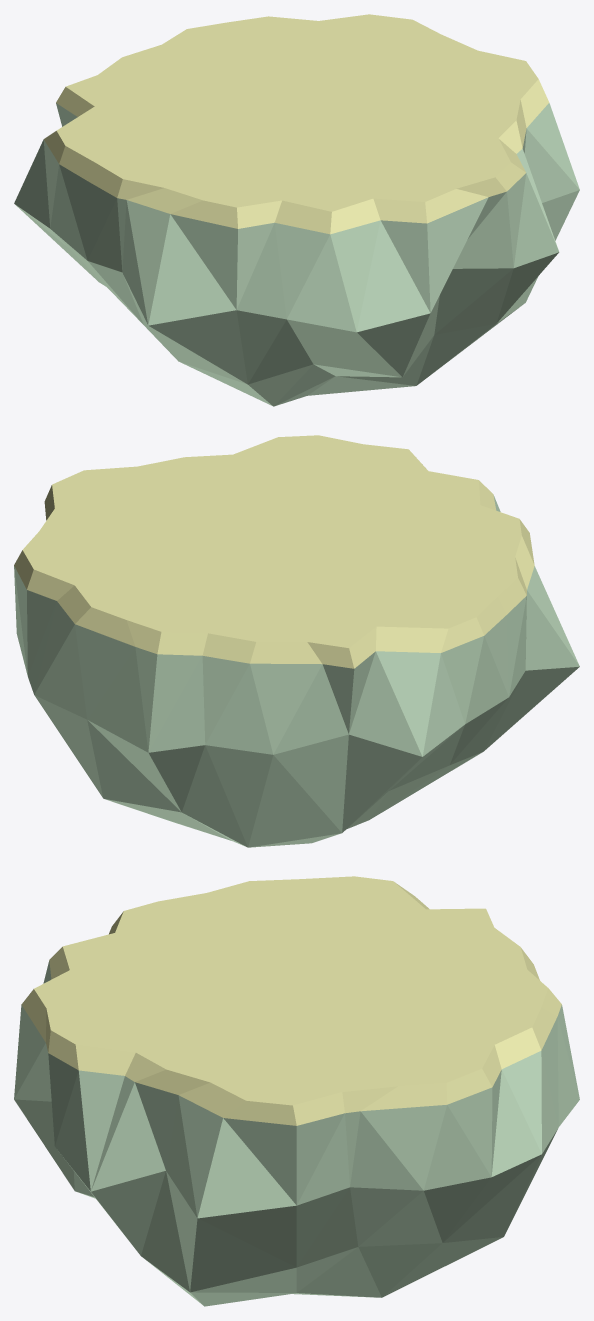
The model's file is Rock Island.fbx.
3 views of the same model, one above another, from view 1: azimuth 30°, elevation 25°; view 2: azimuth 150°, elevation 25°; view 3: azimuth 270°, elevation 25° (orthographic). The views are drawn at different scales.
Parts seen in each view (by area): view 1: Rock Biome; view 2: Rock Biome; view 3: Rock Biome.
Boxes of the visible parts, box(x1,y1,x2,y2) form: Rock Biome: box(14, 14, 579, 406); Rock Biome: box(14, 435, 579, 847); Rock Biome: box(14, 876, 579, 1306).
Bounding box in the file's own units: 3458 × 2061 × 3467.
